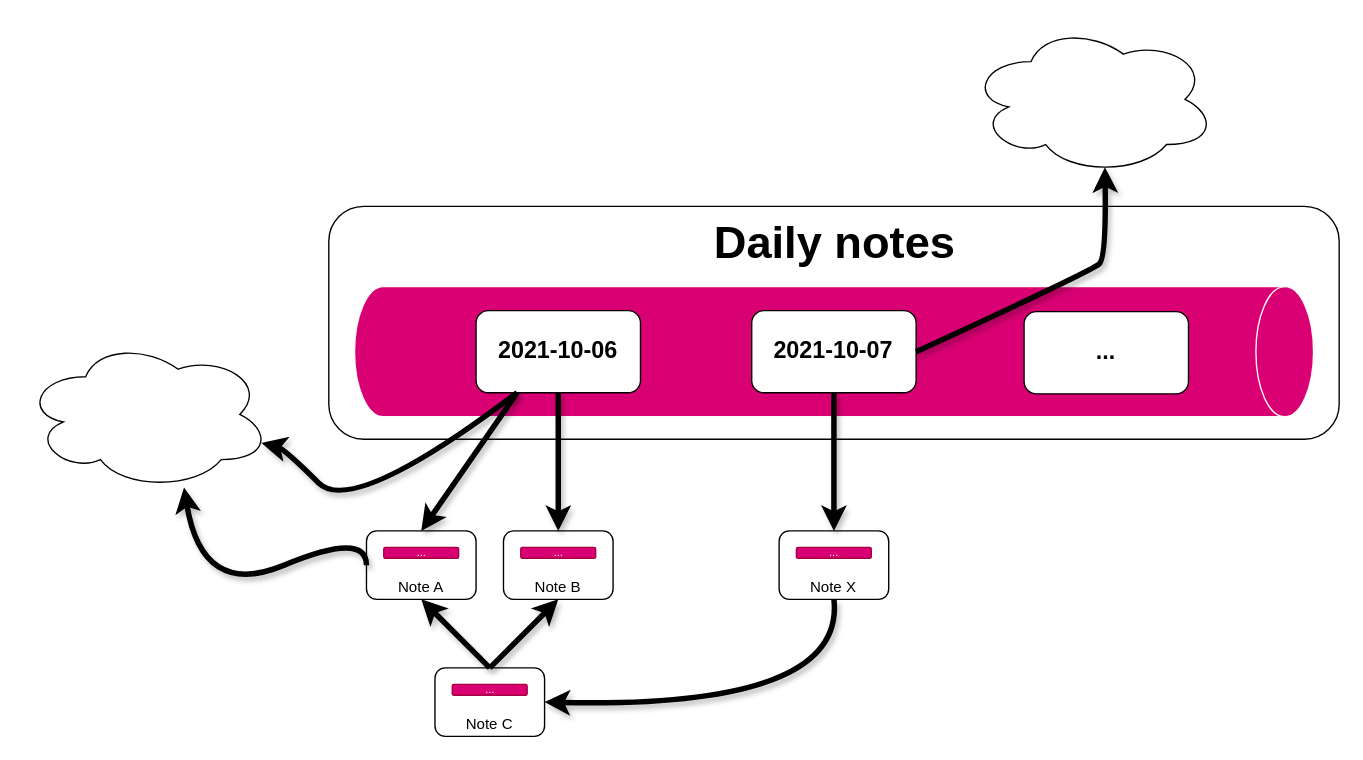
Some shapes in this 1363 by 760 pixel diagram are drawn without their labels. Each missing label, with the centre of its shape:
"Discovery X" belongs at point 1092,99.
"Idea A" belongs at point 147,414.
